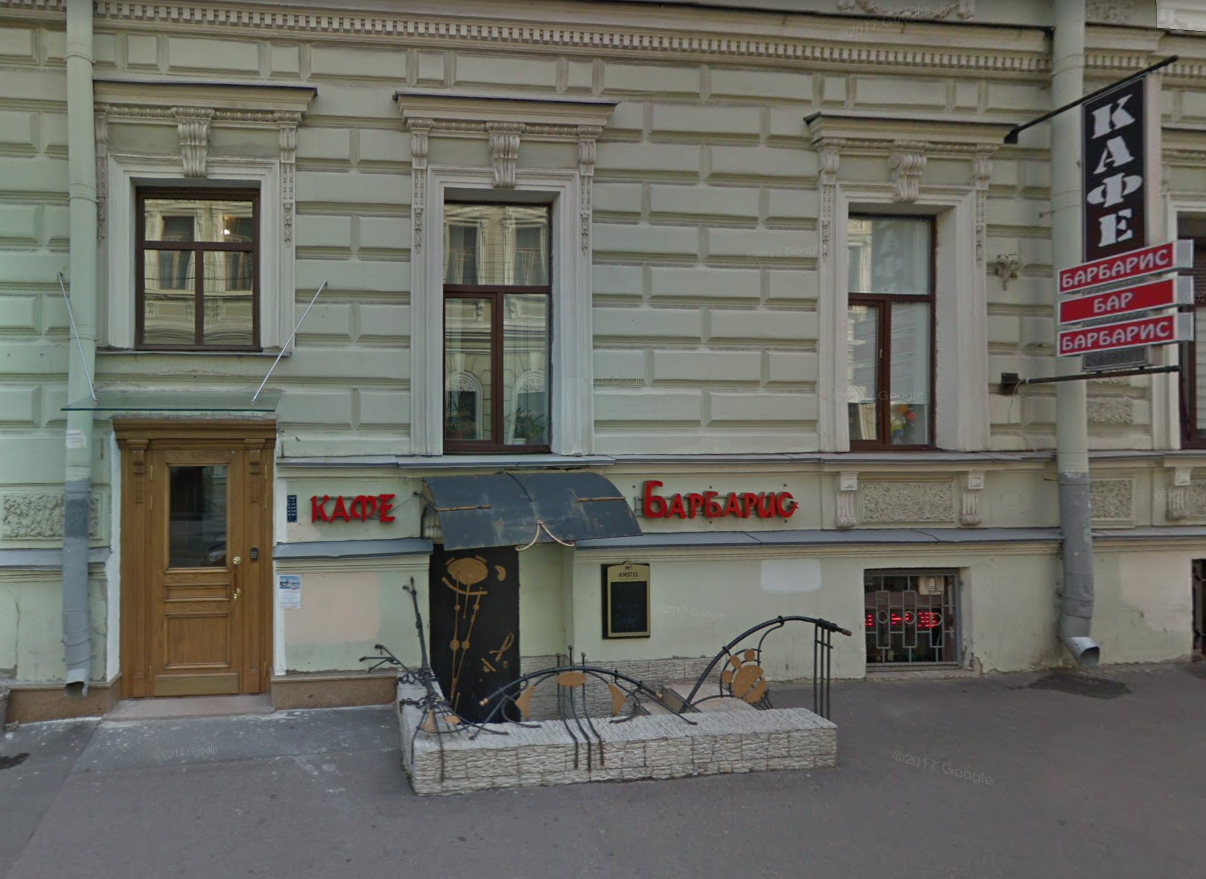cantilever: (995, 49, 1191, 402)
door: (109, 418, 272, 699)
signboard: (633, 461, 803, 527), (299, 481, 403, 526)
window: (438, 191, 554, 459), (843, 199, 943, 447), (134, 187, 264, 350), (866, 567, 962, 666)
